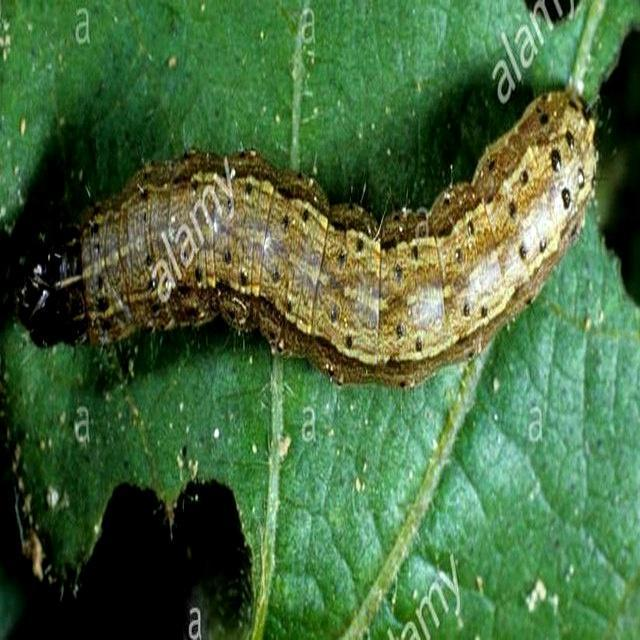gusano_cogollero: (19, 87, 596, 375)
